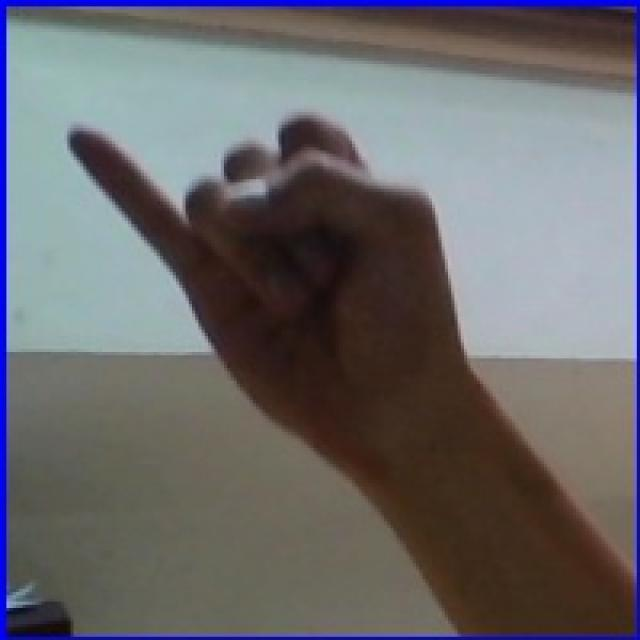J: (46, 36, 508, 482)
